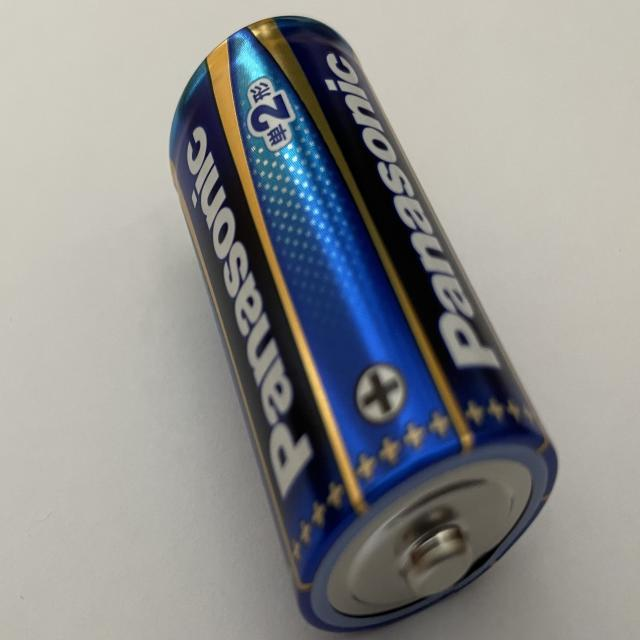hazardous waste: (164, 13, 558, 632)
